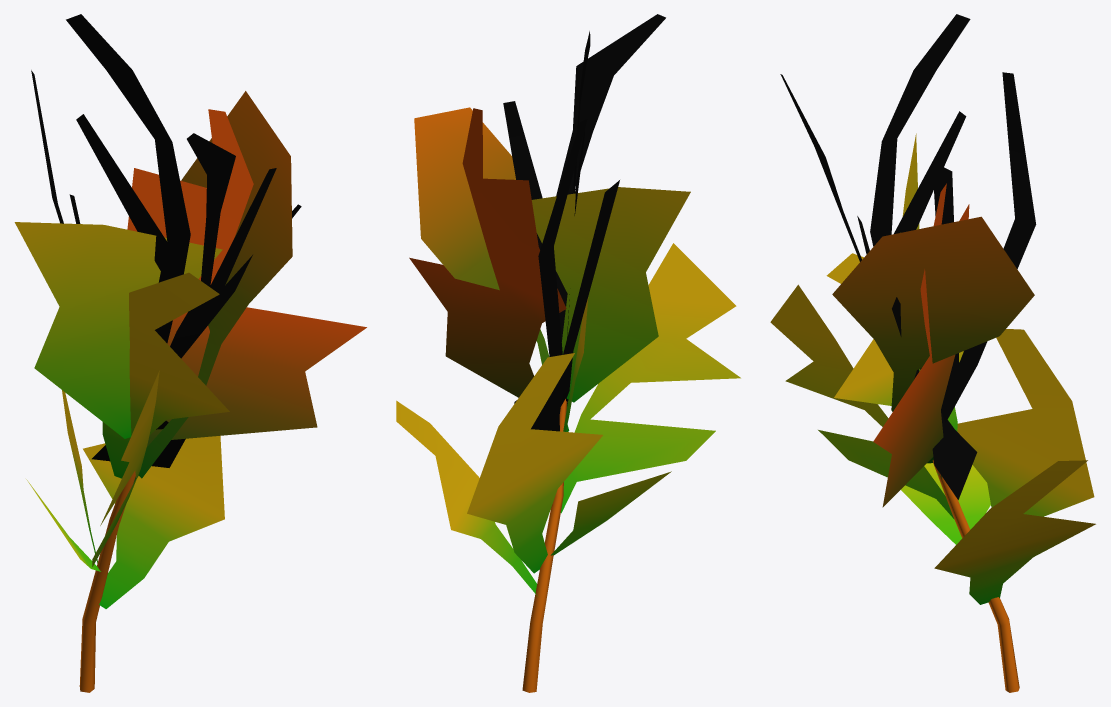
Rendered from Acacia_LOD0_Var4_semkO.fbx.
3 renders of one model, left to right at view 1: azimuth 30°, elevation 25°; view 2: azimuth 150°, elevation 25°; view 3: azimuth 270°, elevation 25°, orthographic. The views are drawn at different scales.
Visible parts, largest first — view 1: _8b4a_Var4_LOD0; view 2: _8b4a_Var4_LOD0; view 3: _8b4a_Var4_LOD0.
Part boxes in pixels (x1,y1,x2,y2): _8b4a_Var4_LOD0: (14, 14, 366, 692); _8b4a_Var4_LOD0: (396, 14, 740, 692); _8b4a_Var4_LOD0: (770, 14, 1095, 692).
Bounding box in the file's own units: 30.61 × 62.62 × 28.04.
